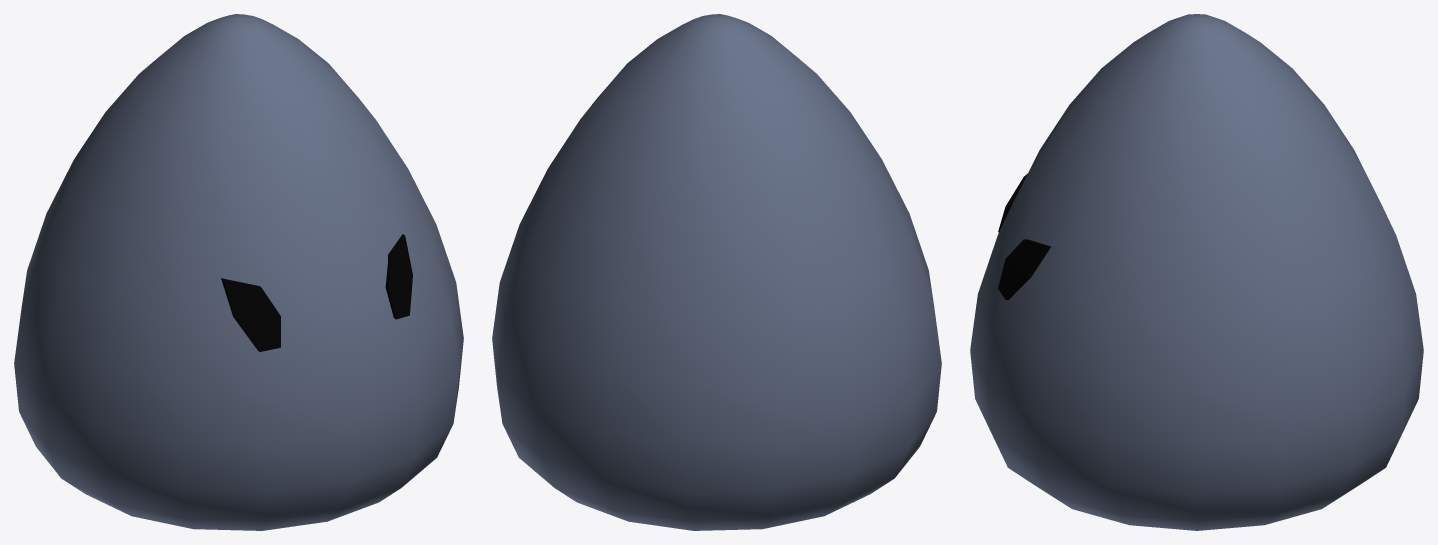
File: slime4.glb
3 views of the same model, side by side, from view 1: azimuth 30°, elevation 25°; view 2: azimuth 150°, elevation 25°; view 3: azimuth 270°, elevation 25° (orthographic).
Visible parts, largest first — view 1: Slime_4; view 2: Slime_4; view 3: Slime_4.
Part boxes in pixels (left/top/right/bottom): Slime_4: left=14, top=14, right=463, bottom=530; Slime_4: left=492, top=14, right=941, bottom=530; Slime_4: left=970, top=14, right=1423, bottom=530.
Size of the model in its own units: 1.64 by 1.78 by 1.64.
